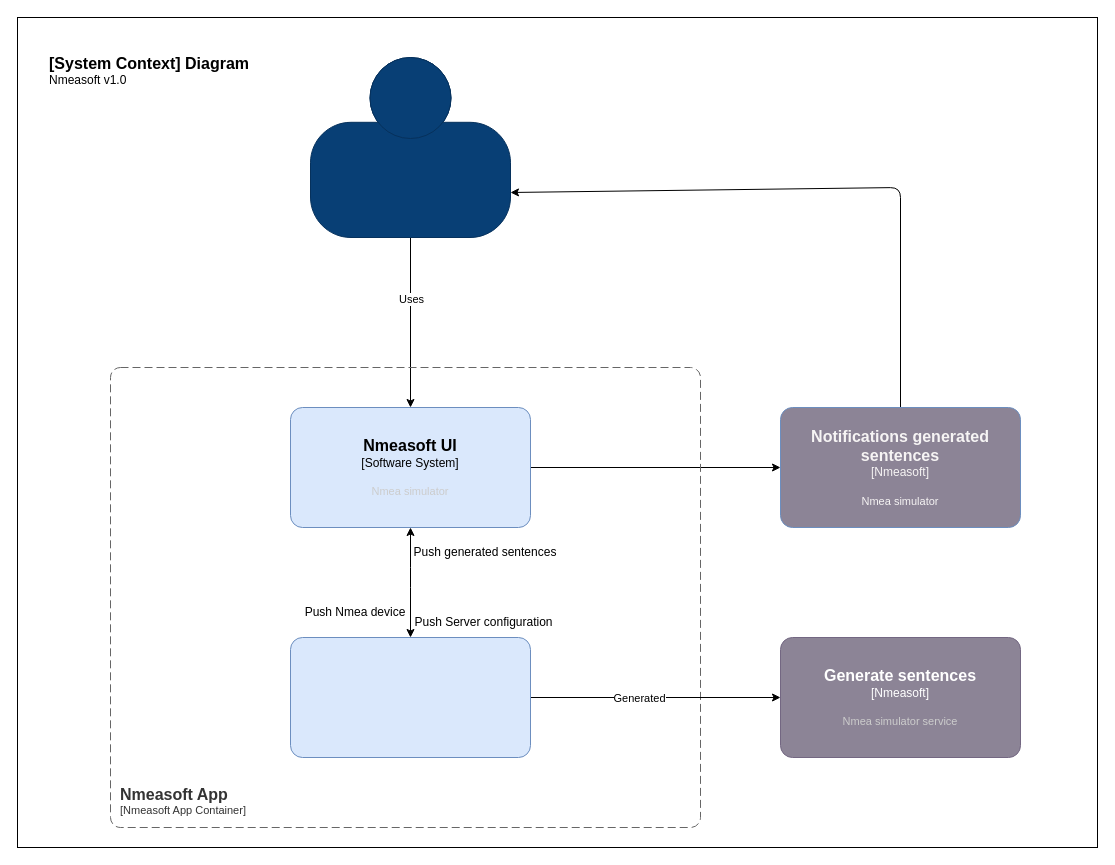
Some shapes in this 1115 by 865 pixel diagram are drawn without their labels. Here are the shapes that lost their labels. From the top down, the centre of each, then its label:
At (x=410, y=147): "Customer [Person] UI Nmeasfot".
At (x=410, y=697): "Nmeasoft service [Service] Nmea simulator service".
